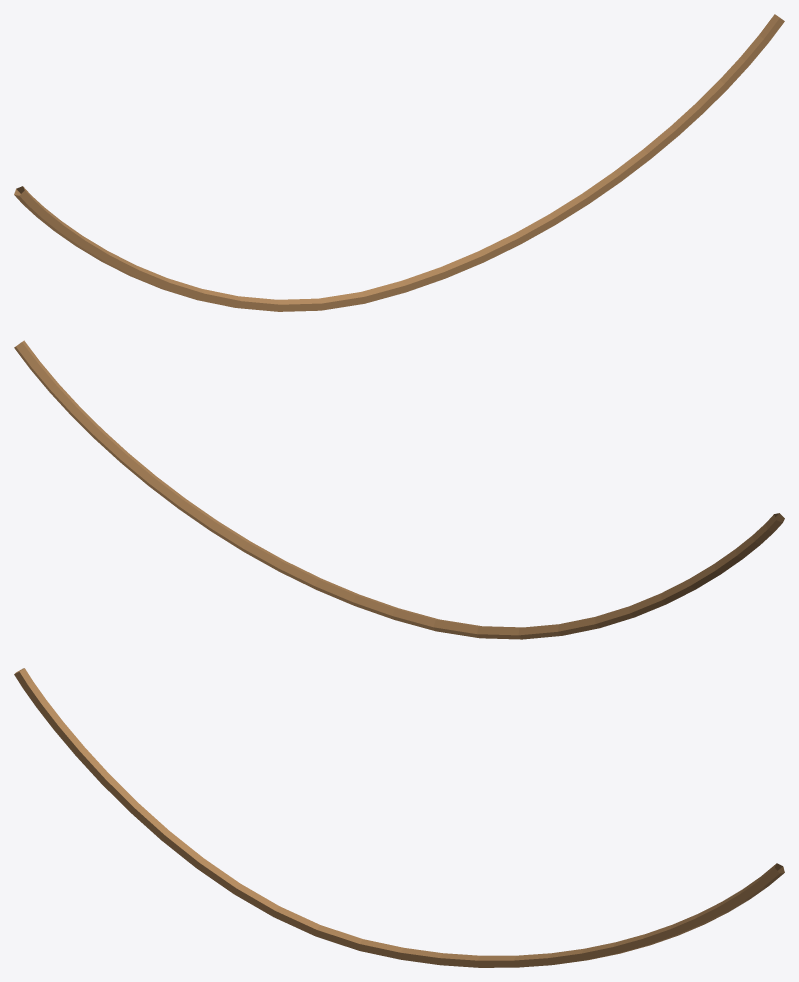
The model's file is String_003.fbx.
The picture shows the model from 3 angles, top to bottom: view 1: azimuth 30°, elevation 25°; view 2: azimuth 150°, elevation 25°; view 3: azimuth 330°, elevation 25°; orthographic projection.
Visible parts, largest first — view 1: String_003; view 2: String_003; view 3: String_003.
Part boxes in pixels (left/top/right/bottom): String_003: left=14, top=14, right=784, bottom=311; String_003: left=14, top=340, right=784, bottom=639; String_003: left=14, top=668, right=784, bottom=967.
Bounding box in the file's own units: 3.07 × 0.7632 × 0.0413.
